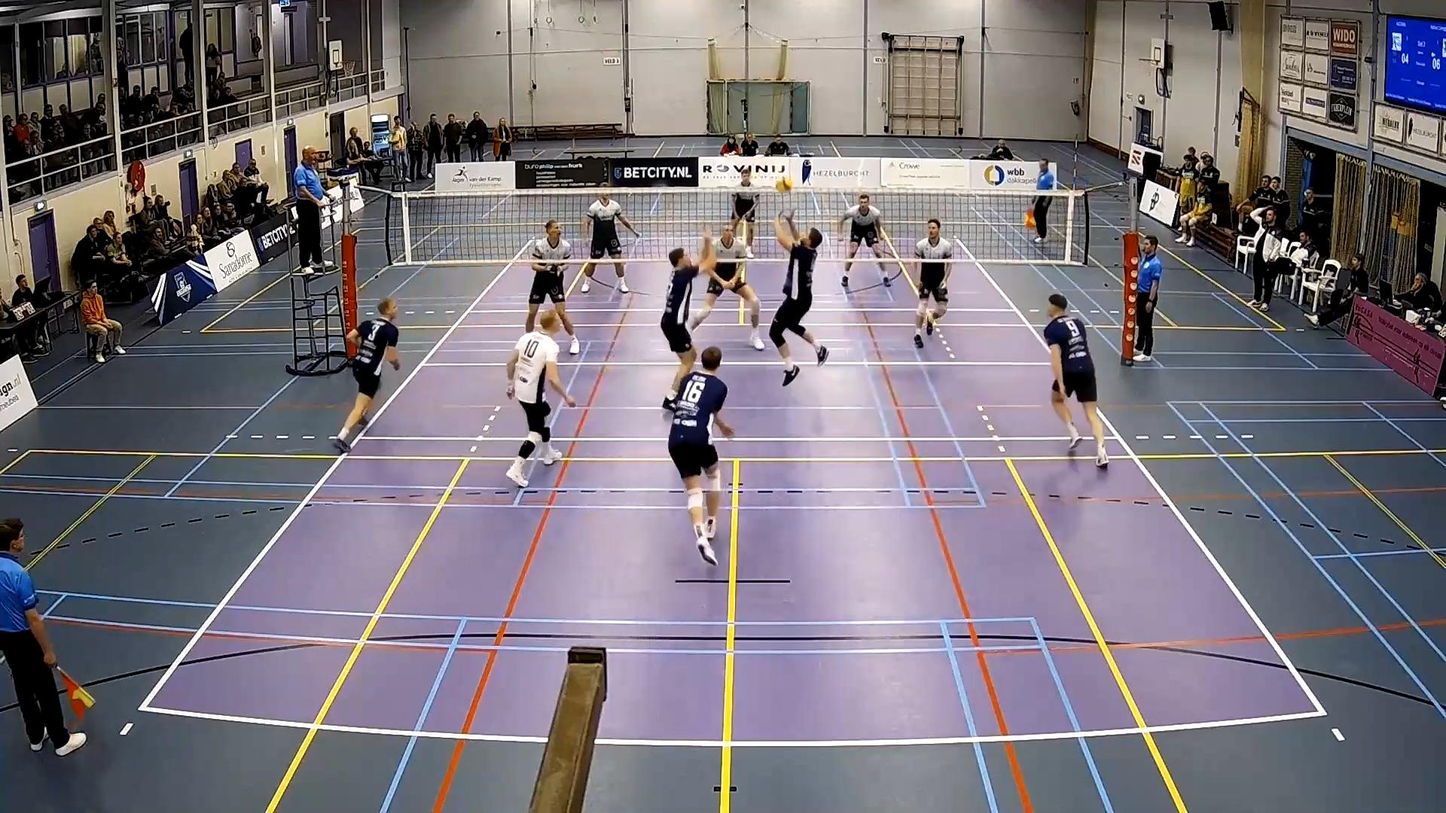Attack: (654, 225, 723, 389)
Player: (669, 346, 734, 565), (506, 310, 575, 487), (1043, 294, 1108, 467), (334, 298, 399, 453), (525, 220, 580, 354), (712, 228, 764, 350), (581, 191, 639, 293), (914, 218, 952, 348), (839, 193, 882, 286), (730, 166, 758, 258)
Set: (764, 207, 832, 389)
ball: (775, 177, 790, 191)
